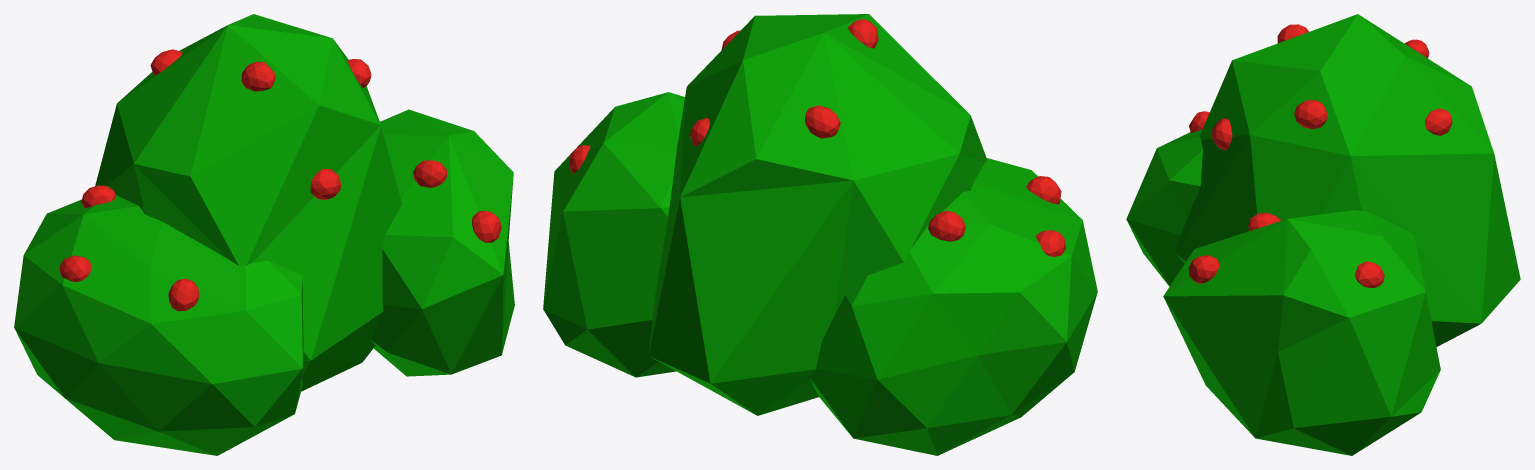
File: bush3.fbx
The picture shows the model from 3 angles, left to right: view 1: azimuth 30°, elevation 25°; view 2: azimuth 150°, elevation 25°; view 3: azimuth 270°, elevation 25°; orthographic projection. The views are drawn at different scales.
Visible parts, largest first — view 1: Icosphere.003; view 2: Icosphere.003; view 3: Icosphere.003.
Boxes of the visible parts, x1=… form: Icosphere.003: x1=14, y1=14, x2=514, y2=455; Icosphere.003: x1=543, y1=14, x2=1097, y2=455; Icosphere.003: x1=1126, y1=14, x2=1520, y2=455.
Size of the model in its own units: 165 by 124 by 125.
